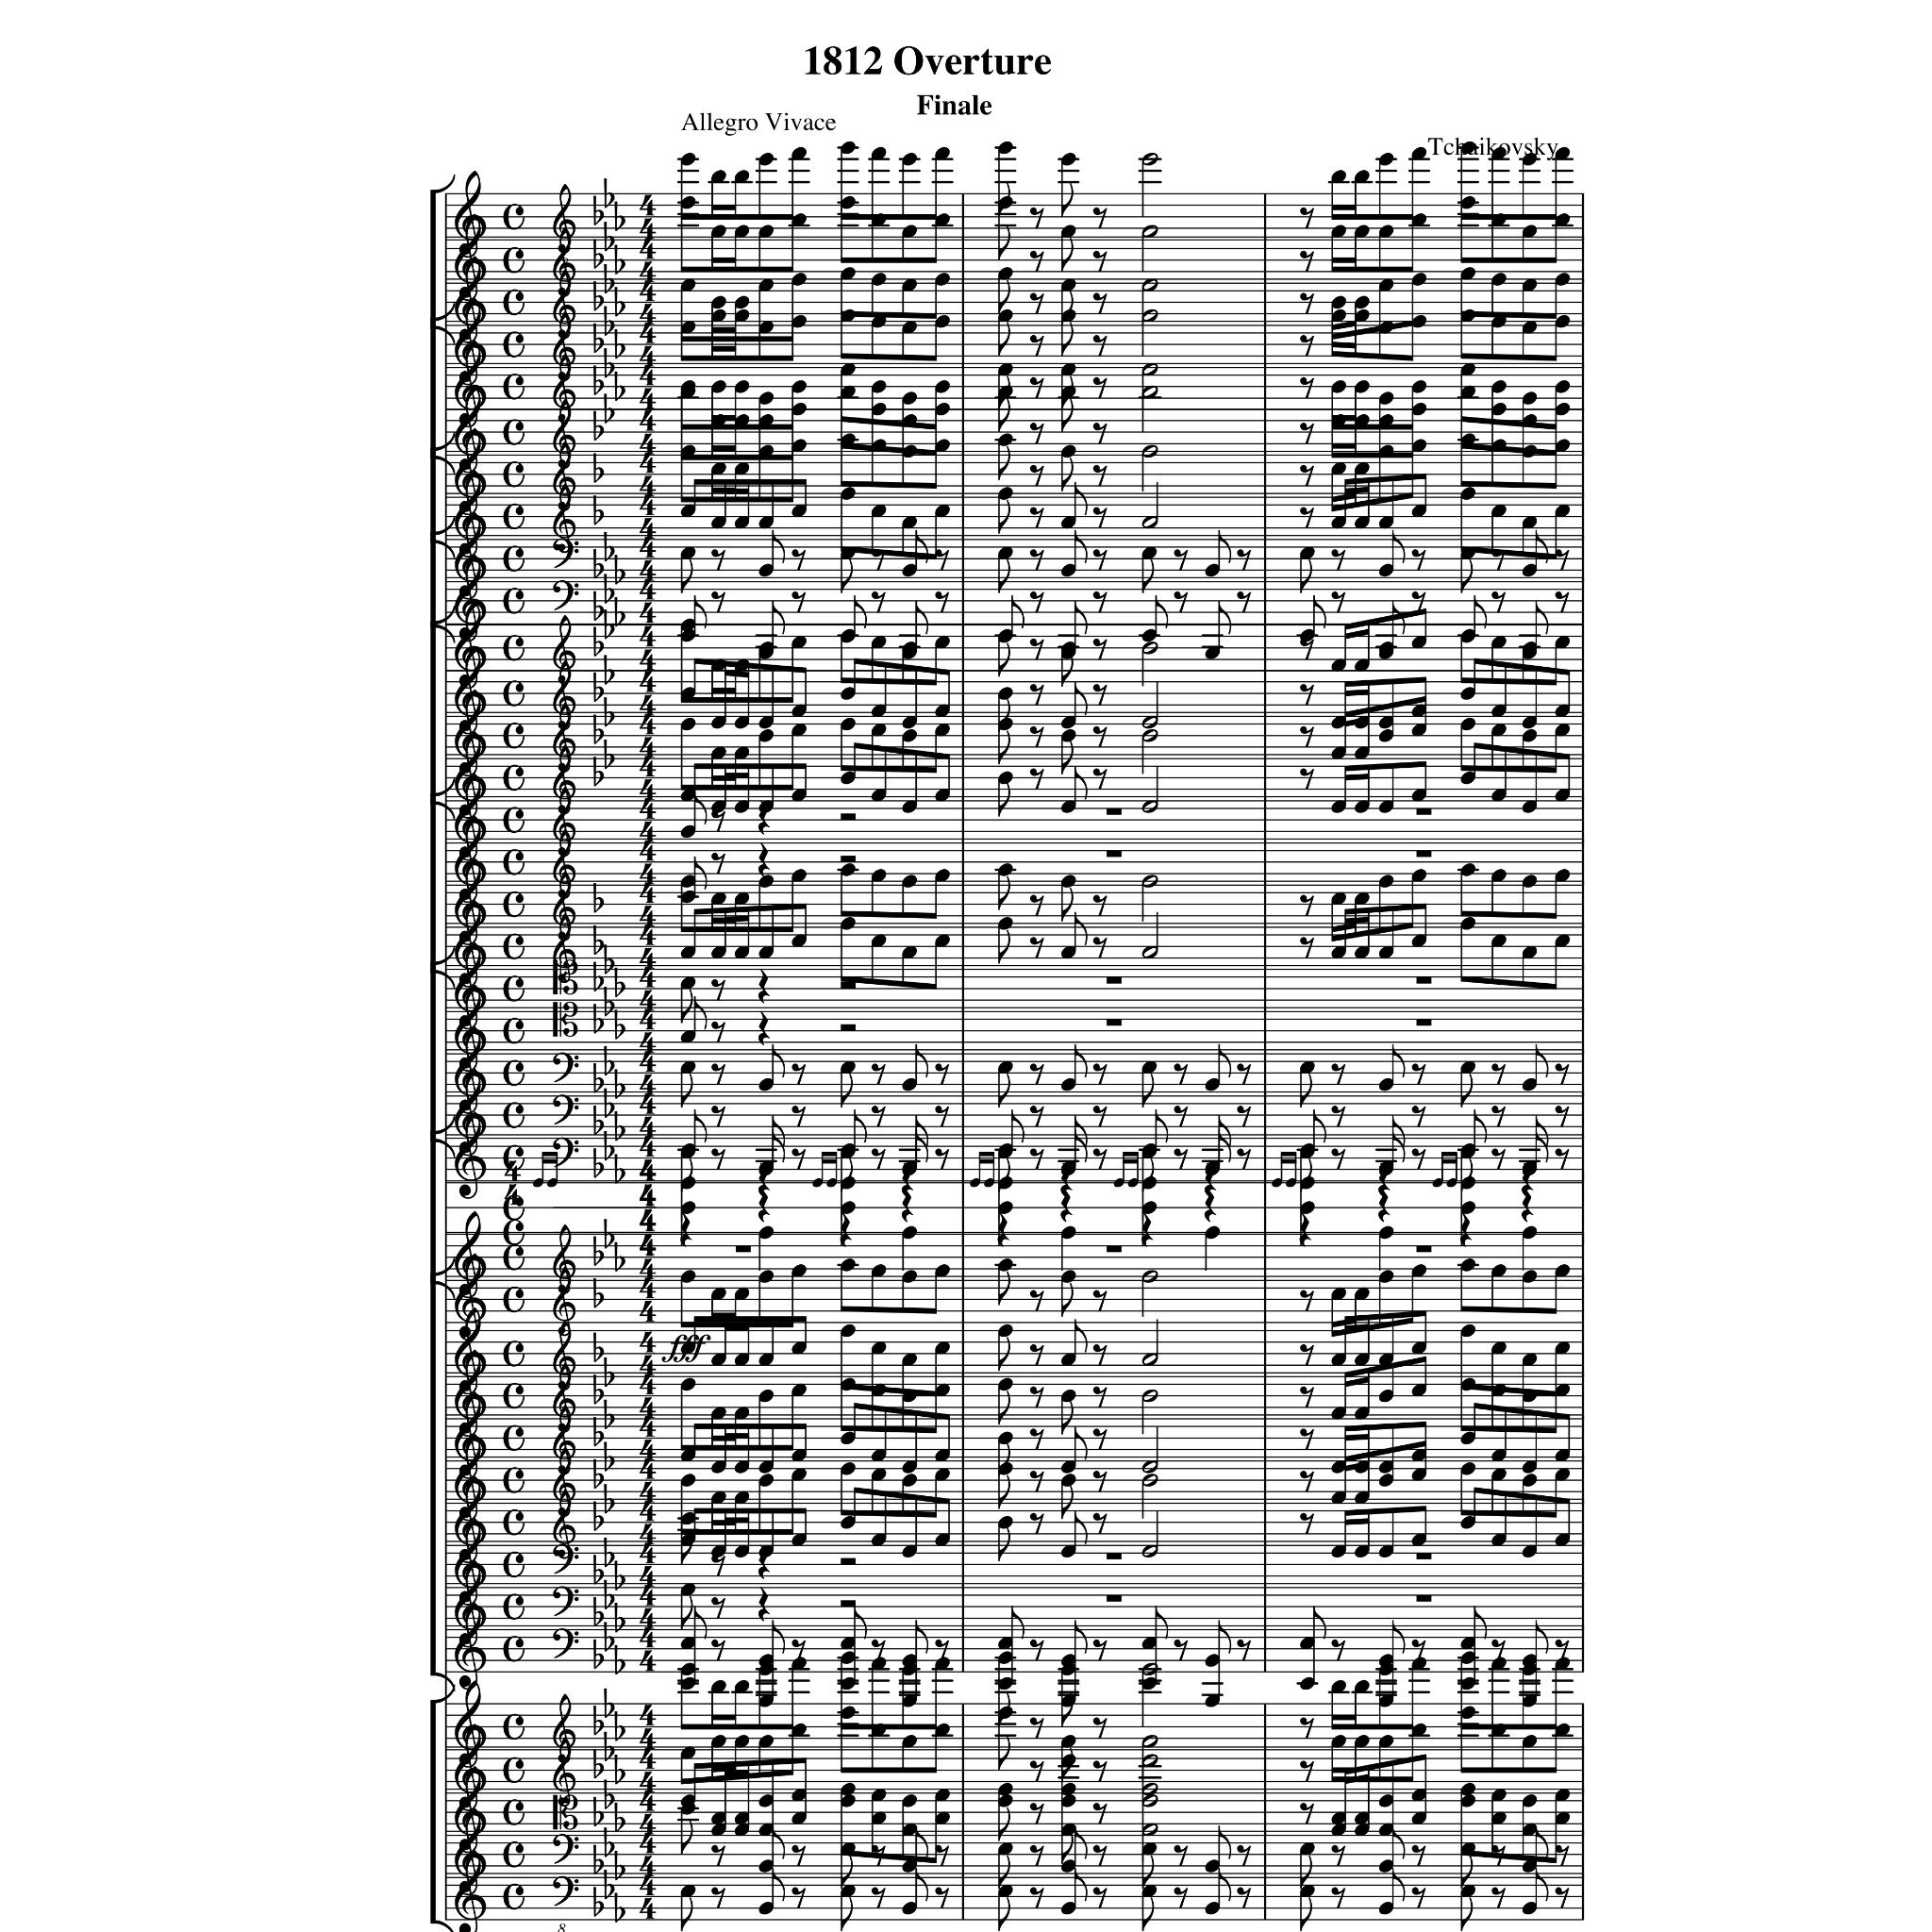flag8thDown: (1141, 1897, 1155, 1930), (998, 1897, 1012, 1930), (840, 1897, 855, 1930), (1300, 559, 1313, 594), (1300, 1854, 1313, 1890), (1062, 740, 1074, 775), (1062, 322, 1074, 357), (1062, 1829, 1074, 1865), (1062, 1484, 1074, 1520), (1141, 559, 1154, 594), (1141, 1854, 1154, 1890), (1461, 1854, 1474, 1890), (1461, 559, 1474, 594), (681, 1530, 694, 1566), (681, 989, 694, 1024), (681, 559, 694, 594), (998, 182, 1010, 218), (998, 322, 1010, 357), (998, 280, 1010, 315), (1062, 237, 1074, 272), (1062, 182, 1074, 218), (998, 929, 1010, 964), (998, 876, 1010, 911), (998, 559, 1010, 594), (998, 446, 1010, 481), (998, 729, 1010, 764), (998, 1854, 1010, 1890), (998, 1806, 1010, 1842), (840, 1854, 853, 1890), (840, 559, 853, 594), (1300, 1074, 1313, 1108), (1300, 1159, 1313, 1192), (1062, 292, 1074, 326), (1300, 1897, 1313, 1930), (1062, 888, 1074, 922), (1062, 398, 1074, 432), (1062, 377, 1074, 410), (1062, 458, 1074, 492), (1062, 653, 1074, 686), (1062, 1748, 1074, 1782), (1062, 1693, 1074, 1727), (1062, 1283, 1074, 1316), (1062, 1401, 1074, 1435), (1141, 1074, 1154, 1108), (1141, 1159, 1154, 1192), (1461, 1897, 1474, 1930), (1461, 1159, 1474, 1192), (1461, 1074, 1474, 1108), (681, 1074, 694, 1108), (681, 1596, 694, 1629), (681, 1159, 694, 1192), (681, 1897, 694, 1930), (681, 1821, 694, 1854), (998, 377, 1010, 410), (998, 226, 1010, 260), (998, 1074, 1010, 1108), (998, 1272, 1010, 1306), (998, 784, 1010, 817), (998, 1159, 1010, 1192), (998, 501, 1010, 534), (998, 398, 1010, 432), (998, 699, 1010, 732), (998, 644, 1010, 678), (998, 1476, 1010, 1509), (998, 1444, 1010, 1477), (998, 1391, 1010, 1424), (998, 1338, 1010, 1371), (998, 1736, 1010, 1769), (998, 1693, 1010, 1727), (998, 1527, 1010, 1560), (840, 1159, 853, 1192), (840, 1074, 853, 1108)
flag8thUp: (1313, 594, 1327, 630), (1074, 766, 1088, 801), (1074, 481, 1088, 517), (1155, 594, 1169, 630), (694, 791, 708, 826), (694, 594, 708, 630), (1313, 1109, 1327, 1143), (1313, 1606, 1327, 1640), (1074, 683, 1088, 717), (1074, 1129, 1088, 1162), (1074, 1115, 1088, 1148), (1074, 1044, 1088, 1077), (1074, 913, 1088, 947), (1074, 531, 1088, 564), (1074, 602, 1088, 635), (1074, 1621, 1088, 1654), (1074, 1868, 1088, 1902), (1074, 1826, 1088, 1859), (1074, 1320, 1088, 1353), (1074, 1511, 1088, 1545), (1074, 1426, 1088, 1460), (1217, 531, 1231, 564), (1217, 602, 1231, 635), (1217, 1115, 1231, 1148), (1217, 1129, 1231, 1162), (1217, 1044, 1231, 1077), (1217, 1826, 1231, 1859), (1217, 1621, 1231, 1654), (1217, 1868, 1231, 1902), (1155, 1606, 1169, 1640), (1155, 1109, 1169, 1143), (1536, 1621, 1550, 1654), (1536, 1115, 1550, 1148), (1536, 1044, 1550, 1077), (1536, 1129, 1550, 1162), (1536, 1868, 1550, 1902), (1536, 1826, 1550, 1859), (1536, 531, 1550, 564), (1536, 602, 1550, 635), (771, 1868, 786, 1902), (771, 1826, 786, 1859), (771, 602, 786, 635), (771, 531, 786, 564), (771, 1621, 786, 1654), (771, 1129, 786, 1162), (771, 1115, 786, 1148), (771, 1044, 786, 1077), (694, 1109, 708, 1143), (694, 996, 708, 1030), (694, 1606, 708, 1640), (694, 856, 708, 890), (915, 1044, 929, 1077), (915, 1115, 929, 1148), (915, 1129, 929, 1162), (915, 531, 929, 564), (915, 602, 929, 635), (915, 1868, 929, 1902), (915, 1826, 929, 1859), (915, 1621, 929, 1654), (1474, 594, 1486, 630), (1012, 594, 1024, 630), (855, 594, 867, 630), (1392, 1868, 1405, 1902), (1392, 1826, 1405, 1859), (1392, 602, 1405, 635), (1392, 531, 1405, 564), (1392, 1621, 1405, 1654), (1392, 1129, 1405, 1162), (1392, 1115, 1405, 1148), (1392, 1044, 1405, 1077), (1474, 1606, 1486, 1640), (1474, 1109, 1486, 1143), (1012, 1109, 1024, 1143), (1012, 1606, 1024, 1640), (855, 1606, 867, 1640), (855, 1109, 867, 1143)
gClef: (453, 1601, 487, 1691), (453, 1559, 487, 1649), (453, 1433, 487, 1523), (453, 1391, 487, 1481), (453, 1348, 487, 1438), (453, 1306, 487, 1396), (453, 297, 487, 387), (453, 255, 487, 345), (453, 1808, 487, 1897), (453, 1766, 487, 1854), (453, 1723, 487, 1812), (453, 1681, 487, 1769), (453, 1518, 487, 1606), (453, 1476, 487, 1564), (453, 941, 487, 1030), (453, 901, 487, 989), (453, 858, 487, 947), (453, 816, 487, 904), (453, 773, 487, 862), (453, 984, 487, 1072), (453, 731, 487, 819), (453, 688, 487, 777), (453, 646, 487, 734), (453, 602, 487, 690), (453, 556, 487, 644), (453, 1253, 487, 1341), (453, 1210, 487, 1299), (453, 513, 487, 602), (453, 1111, 487, 1200), (453, 1069, 487, 1157), (453, 1026, 487, 1115), (453, 471, 487, 559), (453, 428, 487, 517), (453, 386, 487, 474), (453, 340, 487, 428), (453, 214, 487, 303), (453, 170, 487, 258)
noteheadBlack: (1299, 1884, 1316, 1898), (1299, 1637, 1316, 1651), (1299, 1677, 1316, 1691), (1299, 1842, 1316, 1856), (1299, 1145, 1316, 1159), (1299, 1143, 1316, 1157), (1553, 504, 1571, 518), (1553, 439, 1571, 453), (1553, 315, 1571, 329), (1553, 272, 1571, 287), (1553, 147, 1571, 161), (1553, 635, 1571, 649), (1553, 1341, 1571, 1355), (1553, 1810, 1571, 1824), (1553, 1723, 1571, 1737), (1553, 1656, 1571, 1670), (1553, 1532, 1571, 1546), (1553, 1384, 1571, 1398), (1553, 1263, 1571, 1277), (1553, 934, 1571, 948), (1553, 869, 1571, 883), (1553, 704, 1571, 718), (901, 1859, 918, 1874), (901, 1794, 918, 1808), (901, 1822, 918, 1836), (901, 1734, 918, 1748), (901, 1663, 918, 1677), (901, 1460, 918, 1474), (901, 1389, 918, 1403), (901, 1270, 918, 1284), (901, 1226, 918, 1240), (901, 1545, 918, 1559), (901, 564, 918, 579), (901, 640, 918, 655), (901, 646, 918, 660), (901, 152, 918, 166), (901, 225, 918, 239), (901, 515, 918, 529), (901, 1162, 918, 1177), (901, 280, 918, 294), (901, 320, 918, 334), (901, 414, 918, 428), (901, 729, 918, 743), (901, 1161, 918, 1175), (901, 1077, 918, 1092), (1378, 515, 1394, 529), (1353, 1734, 1369, 1748), (1353, 1810, 1369, 1824), (1353, 1822, 1369, 1836), (1353, 1545, 1369, 1559), (1353, 1491, 1369, 1506), (1353, 1460, 1369, 1474), (1353, 892, 1369, 906), (1353, 747, 1369, 761), (1353, 515, 1369, 529), (1353, 462, 1369, 476), (1353, 414, 1369, 428), (1353, 295, 1369, 310), (1353, 225, 1369, 239), (1353, 170, 1369, 184), (1378, 414, 1394, 428), (1378, 320, 1394, 334), (1378, 280, 1394, 294), (1378, 225, 1394, 239), (1378, 152, 1394, 166), (1330, 1810, 1346, 1824), (1330, 1822, 1346, 1836), (1330, 1734, 1346, 1748), (1330, 1545, 1346, 1559), (1330, 1491, 1346, 1506), (1330, 1460, 1346, 1474), (1330, 892, 1346, 906), (1330, 747, 1346, 761), (1330, 515, 1346, 529), (1330, 462, 1346, 476), (1330, 414, 1346, 428), (1330, 295, 1346, 310), (1330, 225, 1346, 239), (1330, 170, 1346, 184), (1205, 1859, 1221, 1874), (1205, 1226, 1221, 1240), (1205, 1162, 1221, 1177), (1205, 1161, 1221, 1175), (1205, 1077, 1221, 1092), (1205, 646, 1221, 660), (1205, 564, 1221, 579), (1141, 1637, 1157, 1651), (1141, 1677, 1157, 1691), (1141, 1145, 1157, 1159), (1141, 1143, 1157, 1157), (1141, 1884, 1157, 1898), (1141, 1842, 1157, 1856), (1522, 414, 1537, 428), (1522, 729, 1537, 743), (1522, 640, 1537, 655), (1522, 646, 1537, 660), (1522, 564, 1537, 579), (1522, 515, 1537, 529), (1522, 320, 1537, 334), (1522, 280, 1537, 294), (1522, 225, 1537, 239), (1522, 152, 1537, 166), (1522, 1077, 1537, 1092), (1522, 1545, 1537, 1559), (1522, 1859, 1537, 1874), (1522, 1794, 1537, 1808), (1522, 1822, 1537, 1836), (1522, 1734, 1537, 1748), (1522, 1663, 1537, 1677), (1522, 1460, 1537, 1474), (1522, 1389, 1537, 1403), (1522, 1270, 1537, 1284), (1522, 1226, 1537, 1240), (1522, 1162, 1537, 1177), (1522, 1161, 1537, 1175), (1410, 1810, 1426, 1824), (1410, 1723, 1426, 1737), (1410, 1656, 1426, 1670), (1410, 1532, 1426, 1546), (1410, 147, 1426, 161), (1410, 1384, 1426, 1398), (1410, 1341, 1426, 1355), (1410, 1263, 1426, 1277), (1410, 934, 1426, 948), (1410, 869, 1426, 883), (1410, 704, 1426, 718), (1410, 635, 1426, 649), (1410, 504, 1426, 518), (1410, 439, 1426, 453), (1410, 315, 1426, 329), (1410, 272, 1426, 287), (1378, 1545, 1394, 1559), (1378, 1460, 1394, 1474), (1378, 1389, 1394, 1403), (1378, 1270, 1394, 1284), (1378, 1226, 1394, 1240), (1378, 1663, 1394, 1677), (1378, 1162, 1394, 1177), (1378, 1161, 1394, 1175), (1378, 1077, 1394, 1092), (1378, 729, 1394, 743), (1378, 640, 1394, 655), (1378, 646, 1394, 660), (1378, 1859, 1394, 1874), (1378, 1794, 1394, 1808), (1378, 1822, 1394, 1836), (1378, 1734, 1394, 1748), (1491, 635, 1507, 649), (1491, 1341, 1507, 1355), (1491, 1263, 1507, 1277), (1491, 934, 1507, 948), (1491, 869, 1507, 883), (1491, 704, 1507, 718), (1491, 504, 1507, 518), (1491, 439, 1507, 453), (1491, 315, 1507, 329), (1491, 272, 1507, 287), (1491, 147, 1507, 161), (1491, 1384, 1507, 1398), (1491, 1810, 1507, 1824), (1491, 1723, 1507, 1737), (1491, 1656, 1507, 1670), (1491, 1532, 1507, 1546), (1460, 1143, 1476, 1157), (1460, 1461, 1476, 1476), (1460, 1431, 1476, 1445), (1460, 1258, 1476, 1272), (1460, 1145, 1476, 1159), (1460, 1677, 1476, 1691), (1460, 916, 1476, 931), (1460, 771, 1476, 786), (1460, 630, 1476, 644), (1460, 487, 1476, 501), (1460, 433, 1476, 448), (1460, 1884, 1476, 1898), (1460, 1842, 1476, 1856), (1460, 1782, 1476, 1796), (1460, 1794, 1476, 1808), (1460, 1706, 1476, 1720), (1460, 1637, 1476, 1651), (1460, 386, 1476, 400), (1460, 363, 1476, 377), (1460, 267, 1476, 281), (1460, 142, 1476, 156), (1378, 564, 1394, 579), (734, 1491, 750, 1506), (734, 1810, 750, 1824), (734, 1822, 750, 1836), (734, 1734, 750, 1748), (734, 1545, 750, 1559), (734, 1460, 750, 1474), (734, 892, 750, 906), (734, 747, 750, 761), (757, 640, 773, 655), (757, 1077, 773, 1092), (757, 729, 773, 743), (757, 1161, 773, 1175), (757, 646, 773, 660), (757, 564, 773, 579), (757, 515, 773, 529), (757, 414, 773, 428), (757, 320, 773, 334), (757, 280, 773, 294), (757, 225, 773, 239), (757, 152, 773, 166), (757, 1859, 773, 1874), (757, 1794, 773, 1808), (757, 1822, 773, 1836), (757, 1734, 773, 1748), (757, 1663, 773, 1677), (757, 1545, 773, 1559), (757, 1460, 773, 1474), (757, 1389, 773, 1403), (757, 1270, 773, 1284), (757, 1226, 773, 1240), (757, 1162, 773, 1177), (734, 515, 750, 529), (734, 462, 750, 476), (734, 414, 750, 428), (734, 295, 750, 310), (734, 225, 750, 239), (734, 170, 750, 184), (791, 1810, 807, 1824), (791, 315, 807, 329), (791, 272, 807, 287), (791, 147, 807, 161), (791, 439, 807, 453), (791, 1723, 807, 1737), (791, 1656, 807, 1670), (791, 1532, 807, 1546), (791, 1384, 807, 1398), (791, 1341, 807, 1355), (791, 1263, 807, 1277), (791, 934, 807, 948), (791, 869, 807, 883), (791, 704, 807, 718), (791, 635, 807, 649), (791, 504, 807, 518), (679, 152, 695, 166), (679, 280, 695, 294), (679, 890, 695, 904), (679, 1145, 695, 1159), (679, 1143, 695, 1157), (679, 1030, 695, 1044), (679, 386, 695, 400), (679, 504, 695, 518), (679, 320, 695, 334), (711, 892, 727, 906), (711, 747, 727, 761), (711, 515, 727, 529), (711, 462, 727, 476), (711, 414, 727, 428), (711, 295, 727, 310), (711, 225, 727, 239), (711, 170, 727, 184), (711, 1810, 727, 1824), (711, 1822, 727, 1836), (711, 1734, 727, 1748), (711, 1545, 727, 1559), (711, 1491, 727, 1506), (711, 1460, 727, 1474), (679, 1884, 695, 1898), (679, 1801, 695, 1815), (679, 1794, 695, 1808), (679, 1663, 695, 1677), (679, 1341, 695, 1355), (679, 1270, 695, 1284), (679, 1637, 695, 1651), (679, 1677, 695, 1691), (679, 1532, 695, 1546), (998, 1884, 1014, 1898), (998, 1842, 1014, 1856), (998, 1782, 1014, 1796), (998, 1794, 1014, 1808), (998, 1706, 1014, 1720), (998, 1637, 1014, 1651), (998, 1677, 1014, 1691), (998, 1461, 1014, 1476), (998, 1431, 1014, 1445), (998, 1258, 1014, 1272), (998, 1145, 1014, 1159), (998, 1143, 1014, 1157), (998, 386, 1014, 400), (998, 916, 1014, 931), (998, 771, 1014, 786), (998, 630, 1014, 644), (998, 487, 1014, 501), (998, 433, 1014, 448), (998, 363, 1014, 377), (998, 267, 1014, 281), (998, 142, 1014, 156), (1062, 1077, 1077, 1092), (1062, 1460, 1077, 1474), (1062, 1389, 1077, 1403), (1062, 1270, 1077, 1284), (1062, 1226, 1077, 1240), (1062, 1162, 1077, 1177), (1062, 1161, 1077, 1175), (1062, 1545, 1077, 1559), (1062, 729, 1077, 743), (1062, 640, 1077, 655), (1062, 646, 1077, 660), (1062, 564, 1077, 579), (1062, 515, 1077, 529), (1062, 386, 1077, 400), (1062, 1859, 1077, 1874), (1062, 1753, 1077, 1767), (1062, 1782, 1077, 1796), (1062, 1794, 1077, 1808), (1062, 1822, 1077, 1836), (1062, 1734, 1077, 1748), (1062, 1663, 1077, 1677), (1062, 363, 1077, 377), (1062, 280, 1077, 294), (1062, 225, 1077, 239), (1062, 152, 1077, 166), (870, 504, 886, 518), (870, 934, 886, 948), (870, 869, 886, 883), (870, 704, 886, 718), (870, 635, 886, 649), (870, 439, 886, 453), (870, 315, 886, 329), (870, 272, 886, 287), (870, 147, 886, 161), (870, 1810, 886, 1824), (870, 1723, 886, 1737), (870, 1656, 886, 1670), (870, 1532, 886, 1546), (870, 1384, 886, 1398), (870, 1341, 886, 1355), (870, 1263, 886, 1277), (840, 1145, 856, 1159), (840, 1461, 856, 1476), (840, 1431, 856, 1445), (840, 1258, 856, 1272), (840, 1143, 856, 1157), (840, 916, 856, 931), (840, 771, 856, 786), (840, 1884, 856, 1898), (840, 1842, 856, 1856), (840, 1782, 856, 1796), (840, 1794, 856, 1808), (840, 1706, 856, 1720), (840, 1637, 856, 1651), (840, 1677, 856, 1691), (840, 142, 856, 156), (840, 630, 856, 644), (840, 487, 856, 501), (840, 433, 856, 448), (840, 386, 856, 400), (840, 363, 856, 377), (840, 267, 856, 281), (934, 439, 950, 453), (934, 315, 950, 329), (934, 272, 950, 287), (934, 147, 950, 161), (934, 504, 950, 518), (934, 1810, 950, 1824), (934, 1723, 950, 1737), (934, 1656, 950, 1670), (934, 1532, 950, 1546), (934, 1384, 950, 1398), (934, 1341, 950, 1355), (934, 1263, 950, 1277), (934, 934, 950, 948), (934, 869, 950, 883), (934, 704, 950, 718), (934, 635, 950, 649), (1299, 1062, 1316, 1074), (1299, 1201, 1316, 1214), (1299, 1177, 1316, 1189), (1299, 630, 1316, 642), (1299, 547, 1316, 559), (1553, 403, 1571, 416), (1553, 380, 1571, 393), (1553, 214, 1571, 226), (1553, 1789, 1571, 1801), (1553, 1468, 1571, 1481), (1553, 1449, 1571, 1461), (1553, 789, 1571, 801), (1553, 724, 1571, 736), (901, 1695, 918, 1707), (901, 1902, 918, 1914), (901, 1654, 918, 1667), (901, 1474, 918, 1486), (901, 1353, 918, 1366), (901, 717, 918, 729), (901, 446, 918, 458), (901, 393, 918, 405), (901, 801, 918, 814), (901, 876, 918, 888), (901, 947, 918, 959), (1353, 1681, 1369, 1693), (1353, 1407, 1369, 1419), (1353, 1353, 1369, 1366), (1353, 1288, 1369, 1300), (1353, 947, 1369, 959), (1353, 801, 1369, 814), (1353, 717, 1369, 729), (1353, 660, 1369, 672), (1353, 380, 1369, 393), (1353, 310, 1369, 322), (1378, 446, 1394, 458), (1378, 393, 1394, 405), (1330, 1288, 1346, 1300), (1330, 1681, 1346, 1693), (1330, 1407, 1346, 1419), (1330, 1353, 1346, 1366), (1330, 947, 1346, 959), (1330, 801, 1346, 814), (1330, 717, 1346, 729), (1330, 660, 1346, 672), (1330, 380, 1346, 393), (1330, 310, 1346, 322), (1141, 630, 1157, 642), (1141, 547, 1157, 559), (1205, 1695, 1221, 1707), (1205, 1902, 1221, 1914), (1205, 1654, 1221, 1667), (1141, 1201, 1157, 1214), (1141, 1177, 1157, 1189), (1141, 1062, 1157, 1074), (1522, 947, 1537, 959), (1522, 876, 1537, 888), (1522, 801, 1537, 814), (1522, 717, 1537, 729), (1522, 446, 1537, 458), (1522, 393, 1537, 405), (1522, 1902, 1537, 1914), (1522, 1654, 1537, 1667), (1522, 1695, 1537, 1707), (1522, 1474, 1537, 1486), (1522, 1353, 1537, 1366), (1410, 1789, 1426, 1801), (1410, 1468, 1426, 1481), (1410, 214, 1426, 226), (1410, 724, 1426, 736), (1410, 1449, 1426, 1461), (1410, 789, 1426, 801), (1410, 403, 1426, 416), (1410, 380, 1426, 393), (1378, 1654, 1394, 1667), (1378, 1695, 1394, 1707), (1378, 1474, 1394, 1486), (1378, 1353, 1394, 1366), (1378, 947, 1394, 959), (1378, 876, 1394, 888), (1378, 801, 1394, 814), (1378, 717, 1394, 729), (1378, 1902, 1394, 1914), (1491, 789, 1507, 801), (1491, 724, 1507, 736), (1491, 403, 1507, 416), (1491, 380, 1507, 393), (1491, 214, 1507, 226), (1491, 1789, 1507, 1801), (1491, 1468, 1507, 1481), (1491, 1449, 1507, 1461), (1460, 1516, 1476, 1529), (1460, 1378, 1476, 1391), (1460, 1325, 1476, 1338), (1460, 1201, 1476, 1214), (1460, 1177, 1476, 1189), (1460, 1062, 1476, 1074), (1460, 863, 1476, 876), (1460, 718, 1476, 731), (1460, 688, 1476, 701), (1460, 630, 1476, 642), (1460, 547, 1476, 559), (1460, 1652, 1476, 1665), (1460, 310, 1476, 322), (1460, 196, 1476, 209), (734, 1681, 750, 1693), (734, 1407, 750, 1419), (734, 1353, 750, 1366), (734, 1288, 750, 1300), (734, 947, 750, 959), (734, 801, 750, 814), (734, 717, 750, 729), (734, 660, 750, 672), (757, 947, 773, 959), (757, 876, 773, 888), (757, 801, 773, 814), (757, 717, 773, 729), (757, 446, 773, 458), (757, 393, 773, 405), (757, 1902, 773, 1914), (757, 1654, 773, 1667), (757, 1695, 773, 1707), (757, 1474, 773, 1486), (757, 1353, 773, 1366), (734, 380, 750, 393), (734, 310, 750, 322), (791, 1789, 807, 1801), (791, 403, 807, 416), (791, 380, 807, 393), (791, 214, 807, 226), (791, 1468, 807, 1481), (791, 1449, 807, 1461), (791, 789, 807, 801), (791, 724, 807, 736), (679, 196, 695, 209), (679, 977, 695, 989), (679, 947, 695, 959), (679, 876, 695, 888), (679, 826, 695, 839), (679, 1201, 695, 1214), (679, 1177, 695, 1189), (679, 789, 695, 801), (679, 1062, 695, 1074), (679, 446, 695, 458), (679, 380, 695, 393), (679, 718, 695, 731), (679, 688, 695, 701), (679, 619, 695, 632), (679, 630, 695, 642), (679, 547, 695, 559), (711, 947, 727, 959), (711, 801, 727, 814), (711, 717, 727, 729), (711, 660, 727, 672), (711, 380, 727, 393), (711, 310, 727, 322), (711, 1681, 727, 1693), (711, 1407, 727, 1419), (711, 1353, 727, 1366), (711, 1288, 727, 1300), (679, 1746, 695, 1759), (679, 1449, 695, 1461), (679, 1378, 695, 1391), (679, 1474, 695, 1486), (679, 1583, 695, 1596), (679, 1513, 695, 1525), (998, 1516, 1014, 1529), (998, 1652, 1014, 1665), (998, 1378, 1014, 1391), (998, 1325, 1014, 1338), (998, 1201, 1014, 1214), (998, 1177, 1014, 1189), (998, 1062, 1014, 1074), (998, 863, 1014, 876), (998, 718, 1014, 731), (998, 688, 1014, 701), (998, 630, 1014, 642), (998, 547, 1014, 559), (998, 310, 1014, 322), (998, 196, 1014, 209), (1062, 1474, 1077, 1486), (1062, 1353, 1077, 1366), (1062, 947, 1077, 959), (1062, 876, 1077, 888), (1062, 801, 1077, 814), (1062, 717, 1077, 729), (1062, 446, 1077, 458), (1062, 1902, 1077, 1914), (1062, 1654, 1077, 1667), (1062, 1695, 1077, 1707), (1062, 310, 1077, 322), (934, 1789, 950, 1801), (870, 789, 886, 801), (870, 724, 886, 736), (870, 403, 886, 416), (870, 380, 886, 393), (870, 214, 886, 226), (870, 1789, 886, 1801), (870, 1468, 886, 1481), (870, 1449, 886, 1461), (840, 1516, 856, 1529), (840, 1378, 856, 1391), (840, 1325, 856, 1338), (840, 1201, 856, 1214), (840, 1177, 856, 1189), (840, 1062, 856, 1074), (840, 863, 856, 876), (840, 718, 856, 731), (840, 688, 856, 701), (840, 1652, 856, 1665), (840, 630, 856, 642), (840, 547, 856, 559), (840, 310, 856, 322), (840, 196, 856, 209), (934, 403, 950, 416), (934, 380, 950, 393), (934, 214, 950, 226), (934, 1468, 950, 1481), (934, 1449, 950, 1461), (934, 789, 950, 801), (934, 724, 950, 736), (1284, 1178, 1297, 1187), (1113, 1178, 1125, 1187), (1127, 1178, 1139, 1187), (1270, 1178, 1283, 1187), (1445, 1178, 1458, 1187), (1431, 1178, 1444, 1187), (547, 1178, 557, 1187), (533, 1178, 543, 1187), (984, 1178, 994, 1187), (970, 1178, 980, 1187), (812, 1178, 823, 1187), (826, 1178, 837, 1187)
noteheadHalf: (1141, 152, 1159, 166), (1141, 642, 1159, 656), (1141, 386, 1159, 400), (1141, 363, 1159, 377), (1141, 225, 1159, 239), (1141, 1663, 1159, 1677), (1141, 1545, 1159, 1559), (1141, 1460, 1159, 1474), (1141, 1389, 1159, 1403), (1141, 1270, 1159, 1284), (1141, 1822, 1159, 1836), (1141, 729, 1159, 743), (1141, 1753, 1159, 1767), (1141, 1782, 1159, 1796), (1141, 1794, 1159, 1808), (1141, 517, 1159, 529), (1141, 446, 1159, 458), (1141, 310, 1159, 322), (1141, 280, 1159, 292), (1141, 717, 1159, 729), (1141, 1736, 1159, 1748), (1141, 1474, 1159, 1486), (1141, 1353, 1159, 1366), (1141, 947, 1159, 959), (1141, 876, 1159, 888), (1141, 801, 1159, 814)
rest8th: (1299, 1803, 1315, 1826), (1299, 1760, 1315, 1783), (1299, 1716, 1315, 1739), (1299, 1513, 1315, 1536), (1299, 1470, 1315, 1493), (1299, 465, 1315, 488), (1299, 423, 1315, 446), (1299, 377, 1315, 400), (1299, 334, 1315, 357), (1299, 292, 1315, 315), (1299, 251, 1315, 274), (1299, 207, 1315, 230), (1299, 506, 1315, 529), (1299, 1385, 1315, 1408), (1299, 1345, 1315, 1368), (1299, 1290, 1315, 1313), (1299, 936, 1315, 959), (1299, 893, 1315, 916), (1299, 768, 1315, 791), (1299, 639, 1315, 662), (1299, 1428, 1315, 1451), (1330, 1845, 1346, 1868), (1330, 1640, 1346, 1663), (1330, 1886, 1346, 1909), (1330, 1148, 1346, 1171), (1330, 1106, 1346, 1129), (1330, 1063, 1346, 1086), (1330, 591, 1346, 614), (1330, 548, 1346, 571), (1092, 1385, 1108, 1408), (1092, 1886, 1108, 1909), (1092, 1845, 1108, 1868), (1092, 1803, 1108, 1826), (1092, 1760, 1108, 1783), (1092, 1716, 1108, 1739), (1092, 1640, 1108, 1663), (1092, 1513, 1108, 1536), (1092, 1470, 1108, 1493), (1092, 1428, 1108, 1451), (1092, 1345, 1108, 1368), (1092, 1290, 1108, 1313), (1092, 1148, 1108, 1171), (1092, 1106, 1108, 1129), (1092, 1063, 1108, 1086), (1092, 936, 1108, 959), (1092, 893, 1108, 916), (1092, 768, 1108, 791), (1092, 207, 1108, 230), (1092, 639, 1108, 662), (1092, 591, 1108, 614), (1092, 548, 1108, 571), (1092, 506, 1108, 529), (1092, 465, 1108, 488), (1092, 423, 1108, 446), (1092, 377, 1108, 400), (1092, 334, 1108, 357), (1092, 292, 1108, 315), (1092, 251, 1108, 274), (1173, 1845, 1189, 1868), (1173, 1886, 1189, 1909), (1173, 1640, 1189, 1663), (1173, 1148, 1189, 1171), (1173, 1106, 1189, 1129), (1173, 1063, 1189, 1086), (1173, 591, 1189, 614), (1173, 548, 1189, 571), (1235, 1886, 1251, 1909), (1235, 1845, 1251, 1868), (1235, 1640, 1251, 1663), (1235, 1148, 1251, 1171), (1235, 1106, 1251, 1129), (1235, 1063, 1251, 1086), (1235, 591, 1251, 614), (1235, 548, 1251, 571), (1490, 1148, 1506, 1171), (1490, 1106, 1506, 1129), (1490, 1063, 1506, 1086), (1490, 591, 1506, 614), (1490, 548, 1506, 571), (1490, 1886, 1506, 1909), (1490, 1845, 1506, 1868), (1490, 1640, 1506, 1663), (791, 1886, 807, 1909), (791, 1845, 807, 1868), (791, 1106, 807, 1129), (791, 1640, 807, 1663), (791, 1148, 807, 1171), (791, 1063, 807, 1086), (791, 591, 807, 614), (791, 548, 807, 571), (934, 1886, 950, 1909), (934, 1845, 950, 1868), (870, 1106, 886, 1129), (870, 1063, 886, 1086), (870, 591, 886, 614), (870, 548, 886, 571), (870, 1148, 886, 1171), (870, 1886, 886, 1909), (870, 1845, 886, 1868), (870, 1640, 886, 1663), (934, 1148, 950, 1171), (934, 1640, 950, 1663), (934, 1106, 950, 1129), (934, 1063, 950, 1086), (934, 591, 950, 614), (934, 548, 950, 571), (1299, 727, 1315, 748), (1299, 685, 1315, 706), (1092, 727, 1108, 748), (1092, 685, 1108, 706), (1555, 1886, 1569, 1909), (1555, 591, 1569, 614), (1555, 548, 1569, 571), (1555, 1845, 1569, 1868), (1555, 1640, 1569, 1663), (1555, 1148, 1569, 1171), (1555, 1106, 1569, 1129), (1555, 1063, 1569, 1086), (1412, 1886, 1426, 1909), (1412, 1845, 1426, 1868), (1412, 1640, 1426, 1663), (1412, 1148, 1426, 1171), (1412, 1106, 1426, 1129), (1412, 1063, 1426, 1086), (1412, 591, 1426, 614), (1412, 548, 1426, 571), (711, 548, 725, 571), (711, 978, 725, 1001), (711, 853, 725, 876), (711, 810, 725, 833), (711, 591, 725, 614), (711, 1021, 725, 1044), (711, 1598, 725, 1621), (711, 1886, 725, 1909), (711, 1845, 725, 1868), (711, 1640, 725, 1663), (711, 1555, 725, 1578), (711, 1148, 725, 1171), (711, 1106, 725, 1129), (711, 1063, 725, 1086), (1030, 1886, 1044, 1909), (1030, 548, 1044, 571), (1030, 506, 1044, 529), (1030, 465, 1044, 488), (1030, 423, 1044, 446), (1030, 377, 1044, 400), (1030, 334, 1044, 357), (1030, 292, 1044, 315), (1030, 251, 1044, 274), (1030, 207, 1044, 230), (1030, 591, 1044, 614), (1030, 1290, 1044, 1313), (1030, 1845, 1044, 1868), (1030, 1803, 1044, 1826), (1030, 1760, 1044, 1783), (1030, 1716, 1044, 1739), (1030, 1640, 1044, 1663), (1030, 1513, 1044, 1536), (1030, 1470, 1044, 1493), (1030, 1428, 1044, 1451), (1030, 1385, 1044, 1408), (1030, 1345, 1044, 1368), (1030, 1148, 1044, 1171), (1030, 1106, 1044, 1129), (1030, 1063, 1044, 1086), (1030, 936, 1044, 959), (1030, 893, 1044, 916), (1030, 768, 1044, 791), (1030, 639, 1044, 662), (1030, 727, 1044, 748), (1030, 685, 1044, 706)
restHalf: (840, 1557, 856, 1566), (840, 1599, 856, 1608), (840, 1024, 856, 1031), (840, 982, 856, 989), (840, 856, 856, 863), (840, 814, 856, 821)
restQuarter: (901, 1187, 915, 1224), (901, 1162, 915, 1198), (1205, 1187, 1217, 1224), (1522, 1187, 1534, 1224), (1378, 1187, 1391, 1224), (757, 1187, 770, 1224), (1060, 1187, 1072, 1224), (1299, 1212, 1311, 1247), (1205, 1162, 1217, 1198), (1141, 1212, 1154, 1247), (1522, 1162, 1534, 1198), (1378, 1162, 1391, 1198), (1460, 1212, 1472, 1247), (757, 1010, 770, 1046), (757, 968, 770, 1003), (757, 842, 770, 878), (757, 800, 770, 835), (757, 1545, 770, 1580), (757, 1587, 770, 1622), (757, 1162, 770, 1198), (679, 1212, 692, 1247), (998, 1212, 1010, 1247), (1060, 1162, 1072, 1198), (840, 1212, 853, 1247)
restWhole: (1106, 849, 1122, 858), (1106, 977, 1122, 985), (1415, 849, 1431, 858), (1415, 977, 1431, 985), (1106, 1596, 1122, 1603), (1106, 809, 1122, 816), (1106, 1246, 1122, 1253), (1106, 1019, 1122, 1026), (1106, 1553, 1122, 1560), (1415, 809, 1431, 816), (734, 1246, 750, 1253), (1415, 1596, 1431, 1603), (1415, 1553, 1431, 1560), (1415, 1246, 1431, 1253), (1415, 1019, 1431, 1026)
